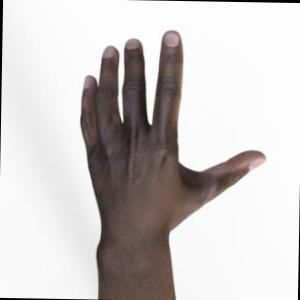paper: (81, 30, 265, 300)
